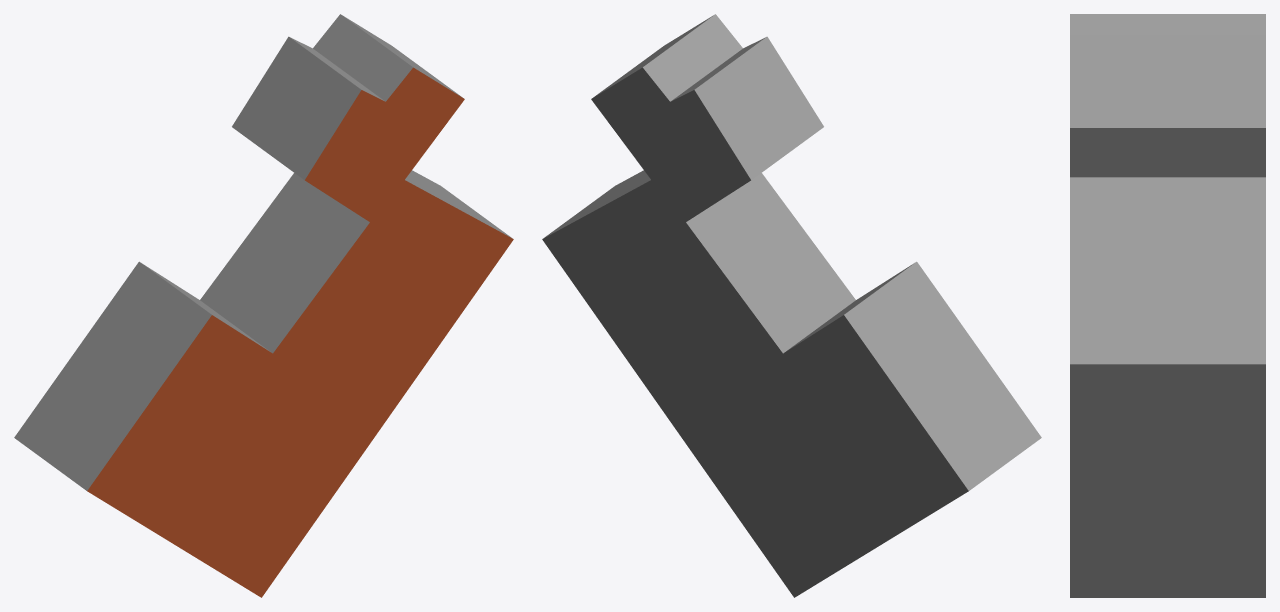
File: construction_6302_assumed_A_Casa_h6m.obj
3 renders of one model, left to right at view 1: azimuth 30°, elevation 25°; view 2: azimuth 150°, elevation 25°; view 3: azimuth 270°, elevation 25°, orthographic. The views are drawn at different scales.
Parts seen in each view (by area): view 1: construction_6302_assumed_A_Casa; view 2: construction_6302_assumed_A_Casa; view 3: construction_6302_assumed_A_Casa.
Boxes of the visible parts, left/top/right/bottom form: construction_6302_assumed_A_Casa: left=14, top=14, right=513, bottom=597; construction_6302_assumed_A_Casa: left=542, top=14, right=1041, bottom=597; construction_6302_assumed_A_Casa: left=1070, top=14, right=1265, bottom=597.
Size of the model in its own units: 20.26 by 22.39 by 6.
